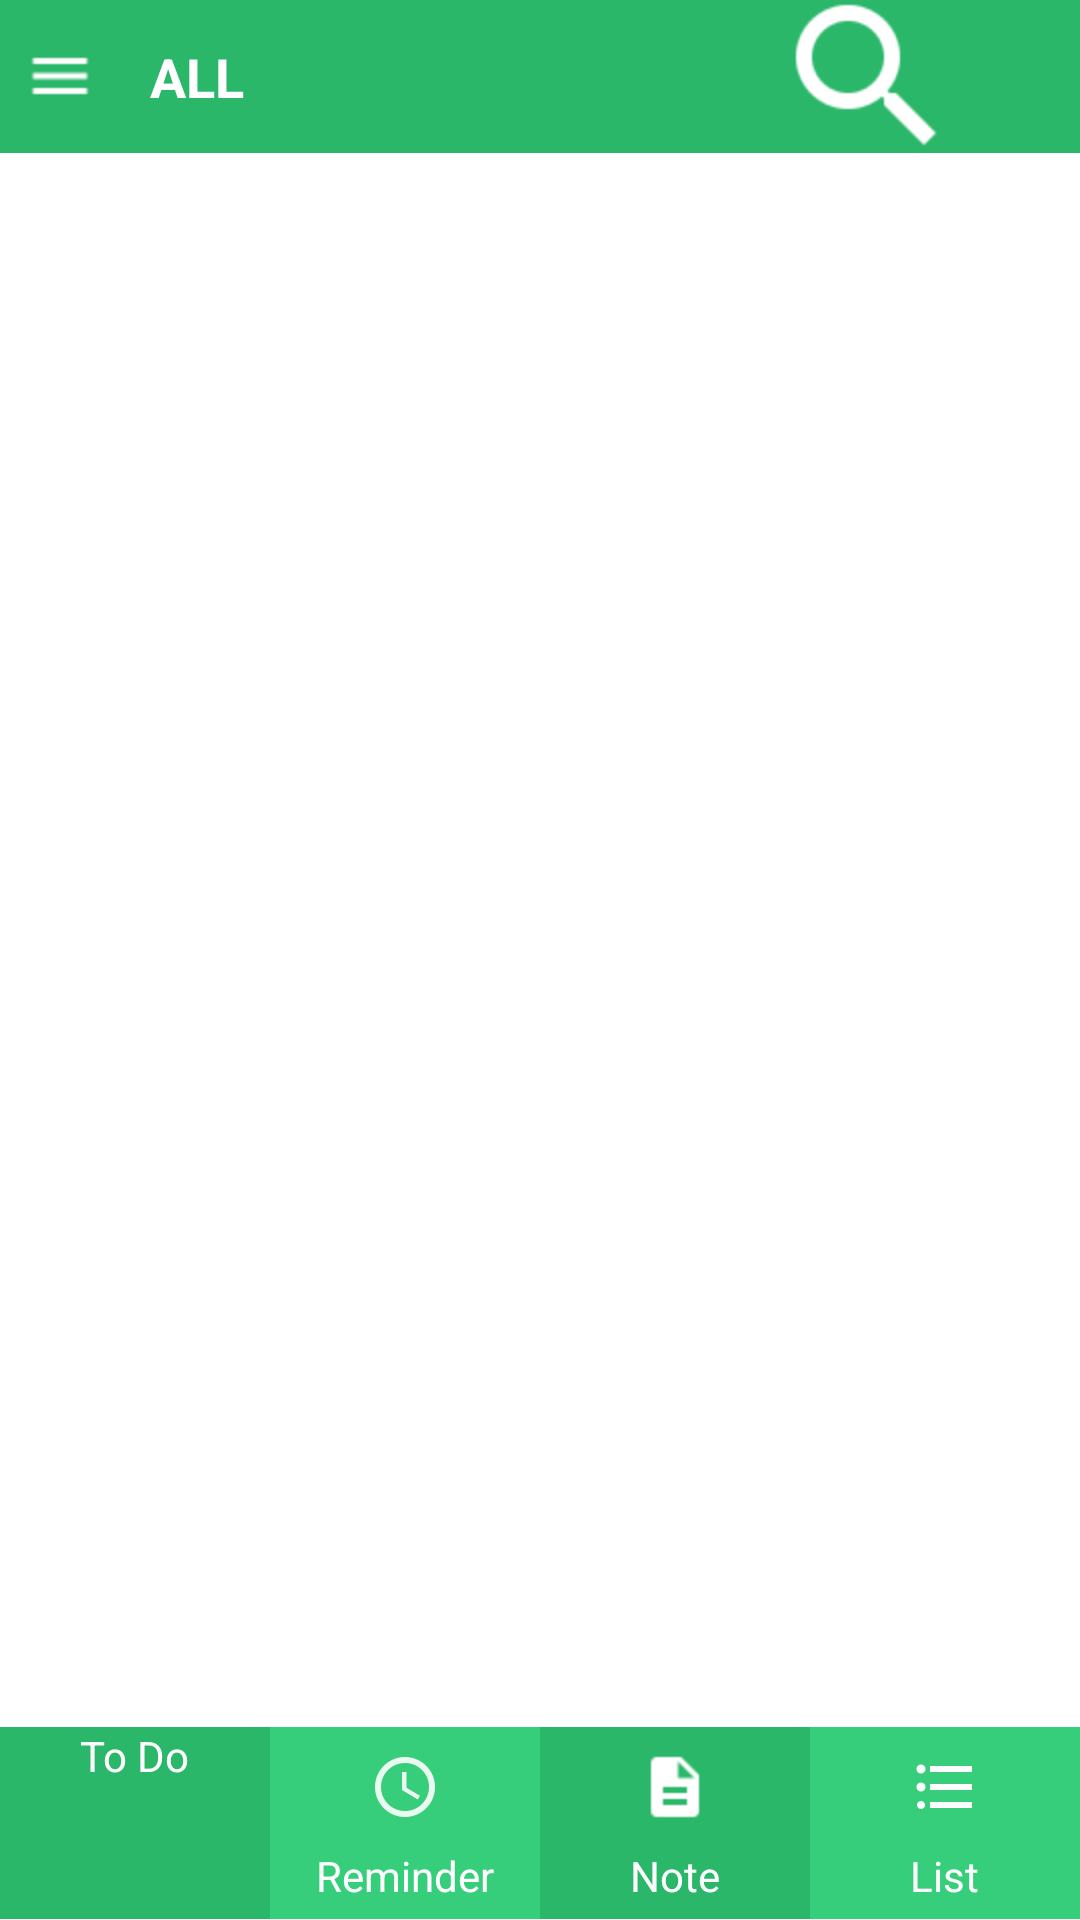

Named icons in this screenshot (1080px×1920px) and their bounding boxes, (x1, y1, x2, y2):
device time: (375, 1757, 435, 1817)
navigation menu: (31, 57, 89, 95)
search: (795, 4, 936, 145)
